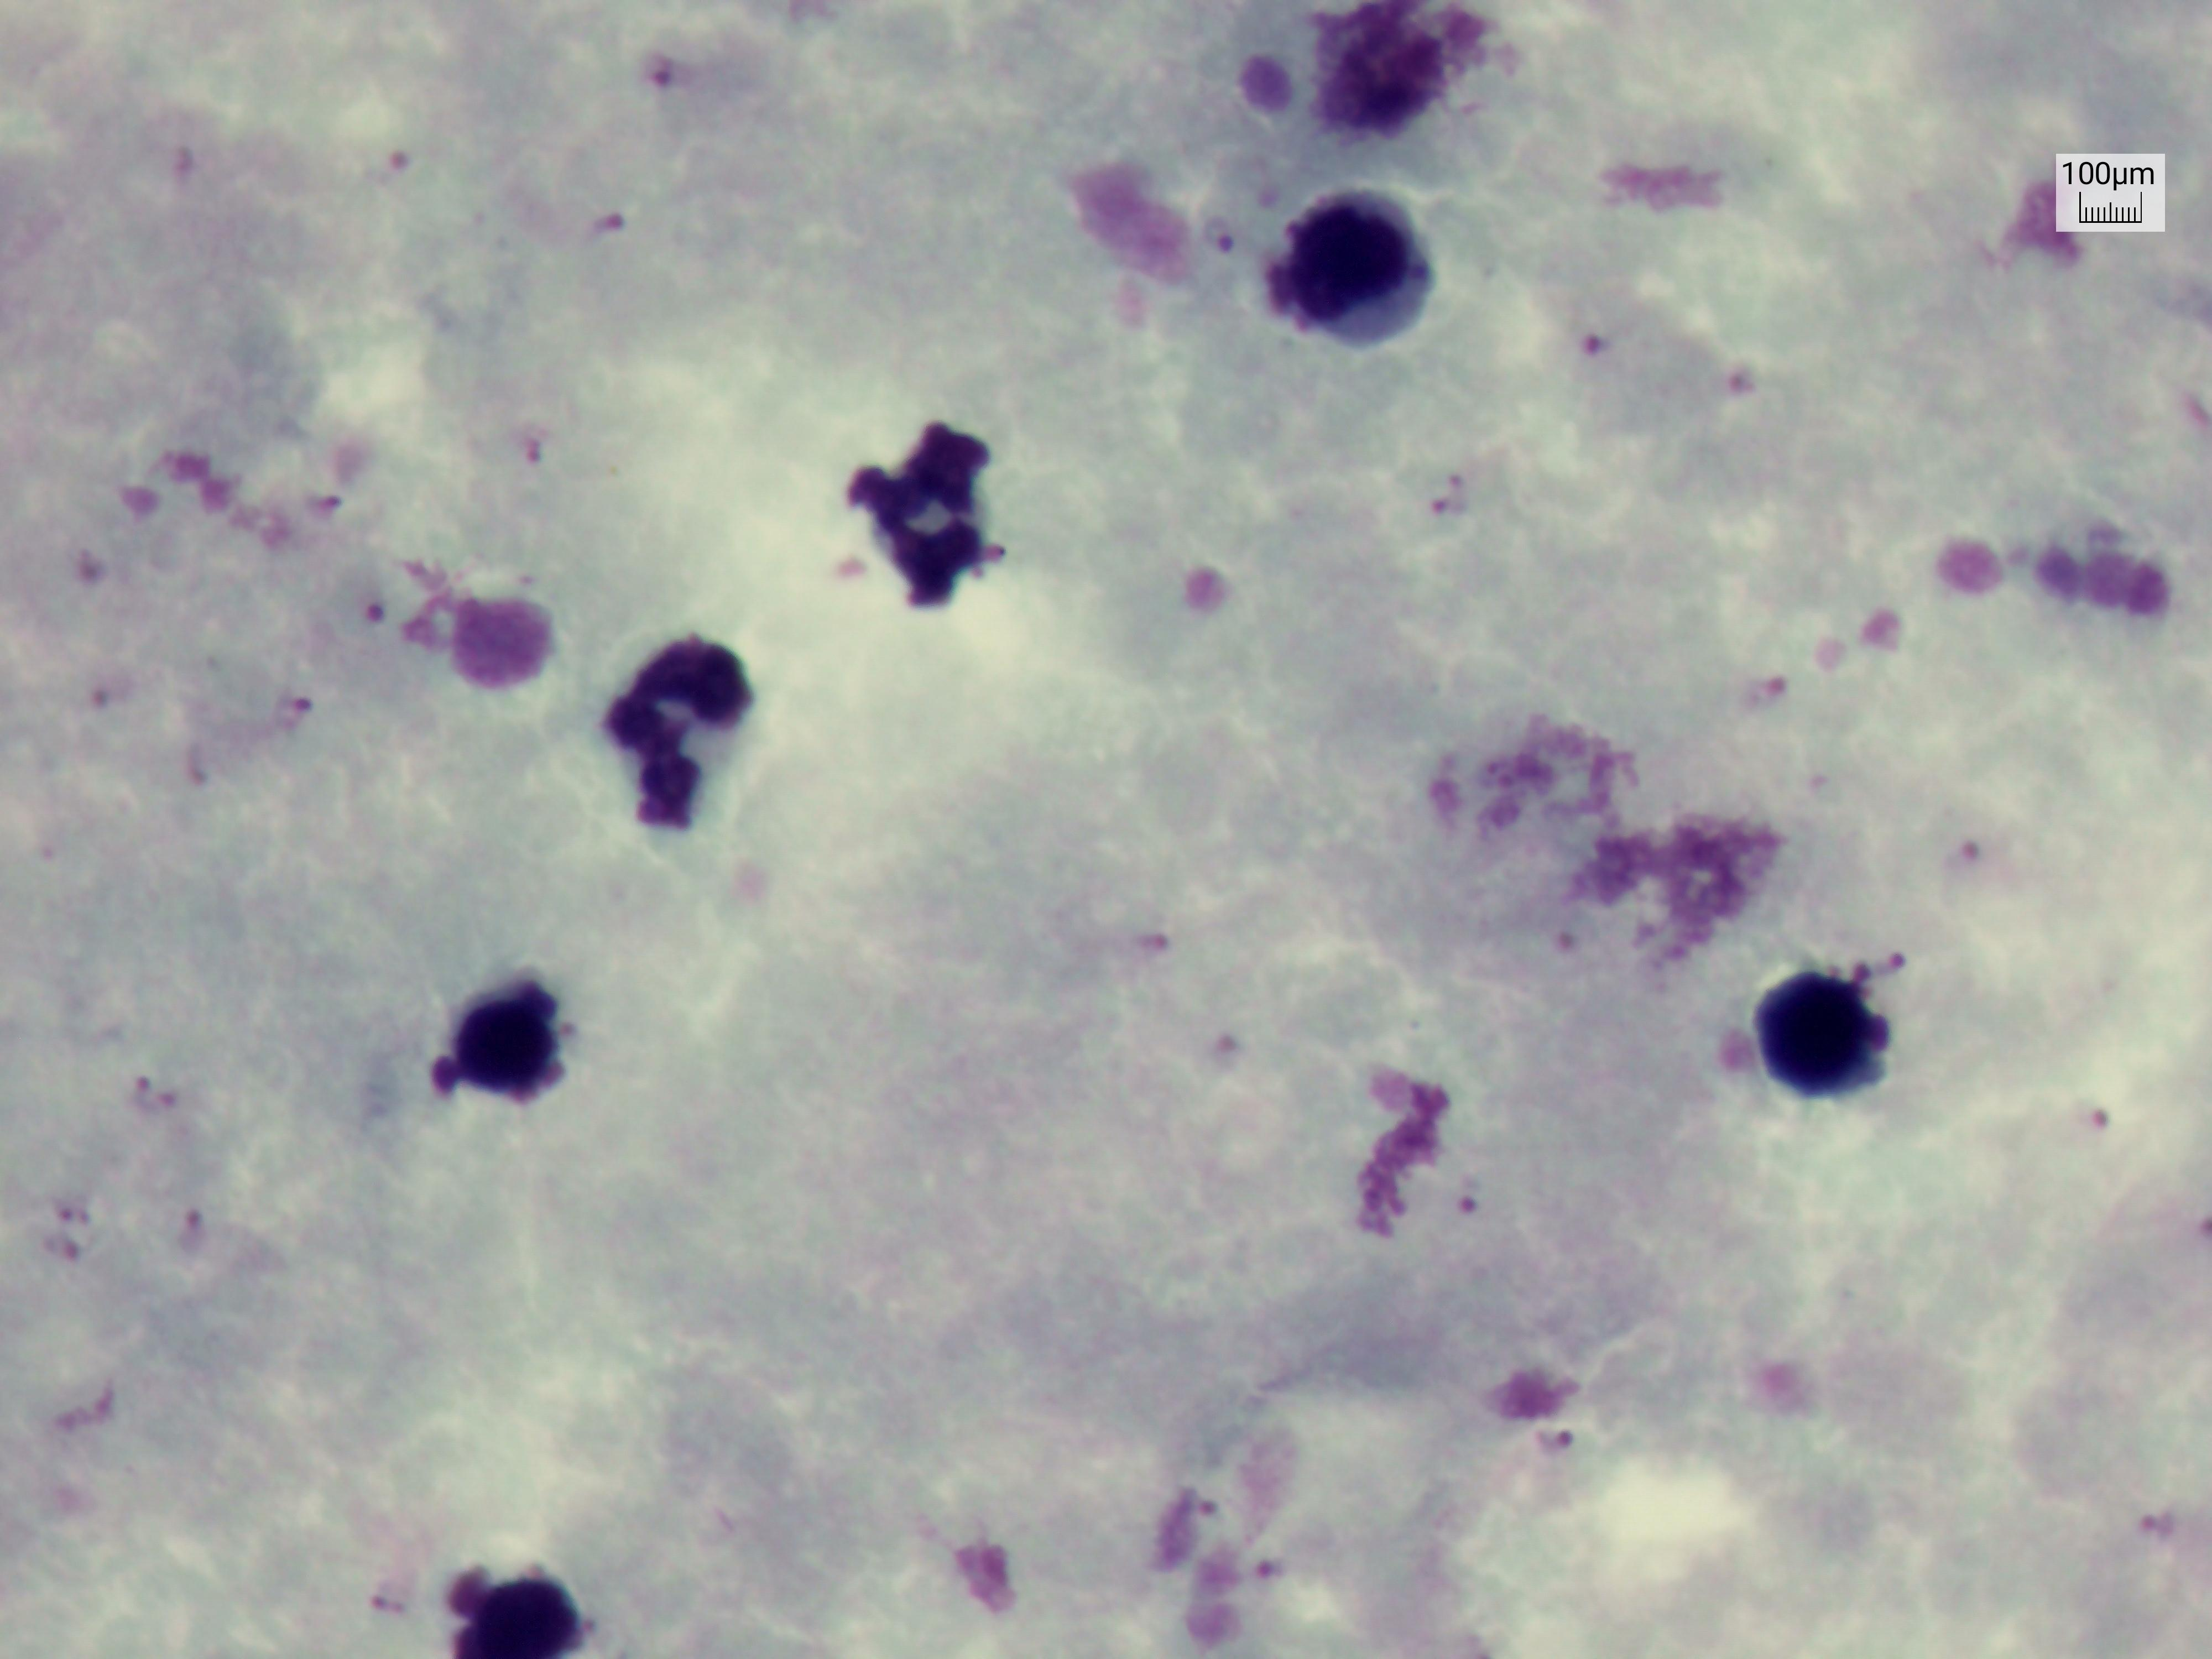p.falciparum: (37, 1211, 232, 1276), (570, 183, 693, 265), (1426, 448, 1493, 579), (124, 1056, 230, 1121), (1435, 1154, 1500, 1248), (265, 667, 320, 767), (1939, 816, 2020, 882), (1190, 183, 1254, 265), (1559, 296, 1622, 378), (1742, 664, 1820, 727), (625, 40, 690, 110), (296, 471, 350, 542), (1526, 1412, 1590, 1469), (366, 139, 425, 200)
